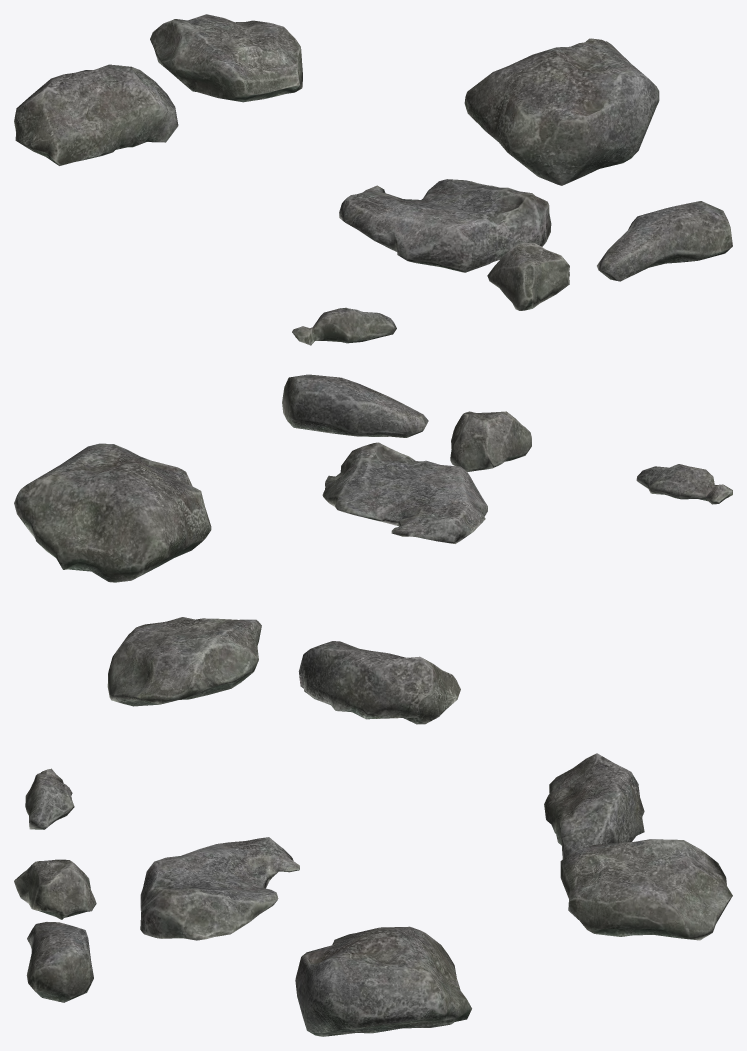
File: rocks.glb
The picture shows the model from 3 angles, top to bottom: view 1: azimuth 30°, elevation 25°; view 2: azimuth 150°, elevation 25°; view 3: azimuth 270°, elevation 25°; orthographic projection. The views are drawn at different scales.
Visible parts, largest first — view 1: rock4, rock1, rock2, rock7, rock5, rock6, rock3; view 2: rock4, rock7, rock1, rock2, rock5, rock6, rock3; view 3: rock4, rock7, rock1, rock2, rock5, rock6, rock3.
Part boxes in pixels (x1=…): rock4: x1=464, y1=38, x2=659, y2=185; rock1: x1=339, y1=179, x2=551, y2=272; rock2: x1=14, y1=64, x2=178, y2=165; rock7: x1=150, y1=14, x2=302, y2=102; rock5: x1=597, y1=201, x2=732, y2=281; rock6: x1=487, y1=242, x2=569, y2=310; rock3: x1=292, y1=307, x2=396, y2=345; rock4: x1=14, y1=443, x2=211, y2=582; rock7: x1=107, y1=617, x2=261, y2=706; rock1: x1=322, y1=442, x2=487, y2=543; rock2: x1=298, y1=641, x2=460, y2=724; rock5: x1=282, y1=374, x2=428, y2=437; rock6: x1=450, y1=411, x2=531, y2=471; rock3: x1=636, y1=464, x2=732, y2=504; rock4: x1=295, y1=926, x2=471, y2=1036; rock7: x1=560, y1=839, x2=732, y2=940; rock1: x1=140, y1=837, x2=299, y2=940; rock2: x1=544, y1=753, x2=644, y2=858; rock5: x1=26, y1=922, x2=93, y2=1002; rock6: x1=14, y1=859, x2=96, y2=919; rock3: x1=25, y1=768, x2=74, y2=829.
Size of the model in its own units: 1.08 by 0.1897 by 1.31.
Materials: 1 (1 with a texture image).
